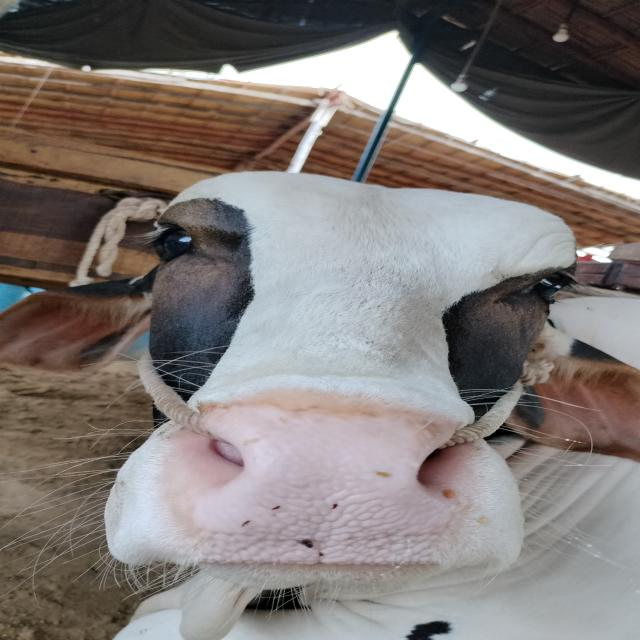muzzles: (164, 392, 498, 572)
